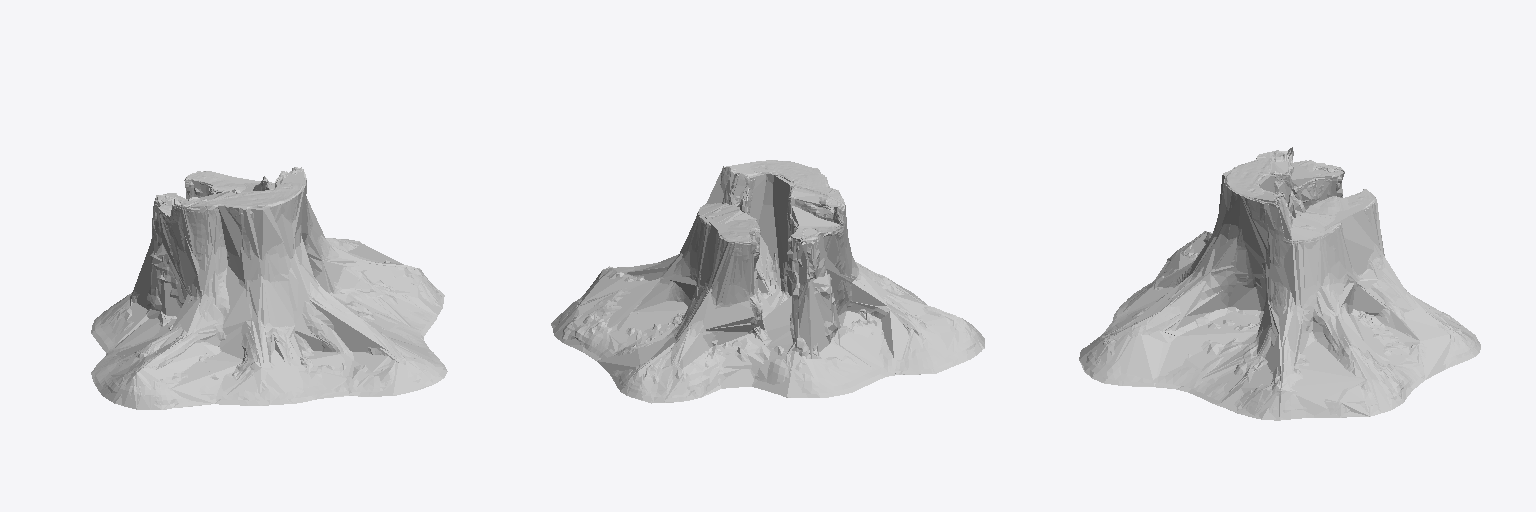
File: Stump1.obj
3 views of the same model, side by side, from view 1: azimuth 30°, elevation 25°; view 2: azimuth 150°, elevation 25°; view 3: azimuth 270°, elevation 25° (orthographic).
Visible parts, largest first — view 1: default; view 2: default; view 3: default.
Boxes of the visible parts, box(x1,y1,x2,y2) form: default: box(91, 167, 447, 409); default: box(551, 160, 984, 403); default: box(1079, 147, 1480, 420).
Size of the model in its own units: 439 by 186 by 425.